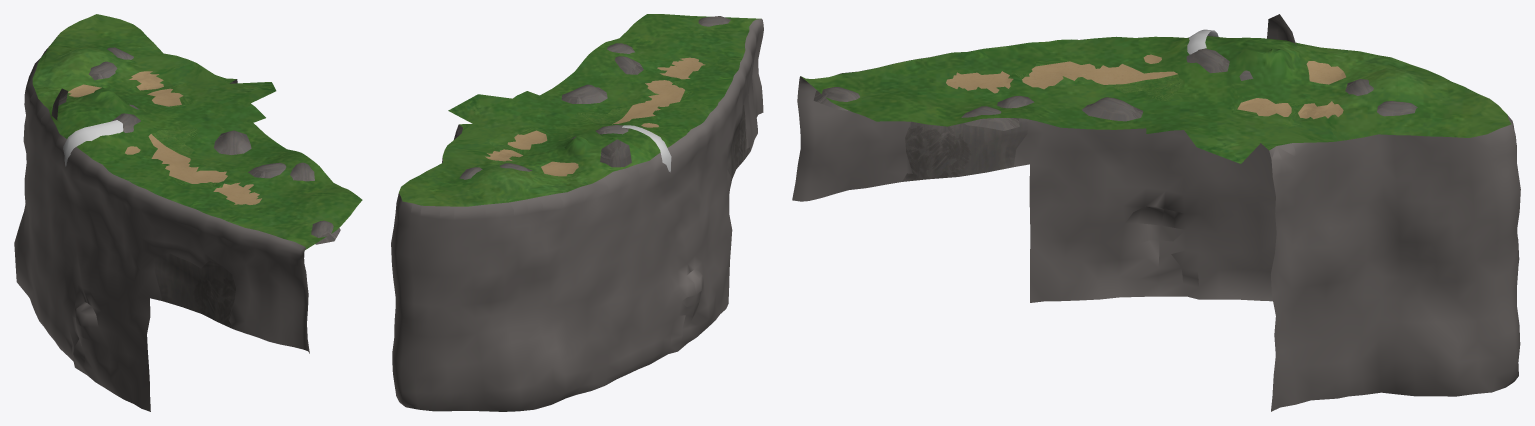
File: SM_ENV_KNFRST_Cliff_G_COL.FBX
3 renders of one model, left to right at view 1: azimuth 30°, elevation 25°; view 2: azimuth 150°, elevation 25°; view 3: azimuth 270°, elevation 25°, orthographic. The views are drawn at different scales.
Visible parts, largest first — view 1: SM_ENV_KNFRST_Cliff_G_COL; view 2: SM_ENV_KNFRST_Cliff_G_COL; view 3: SM_ENV_KNFRST_Cliff_G_COL.
Part boxes in pixels (left/top/right/bottom): SM_ENV_KNFRST_Cliff_G_COL: left=14, top=14, right=362, bottom=411; SM_ENV_KNFRST_Cliff_G_COL: left=391, top=14, right=763, bottom=411; SM_ENV_KNFRST_Cliff_G_COL: left=792, top=14, right=1520, bottom=411.
Bounding box in the file's own units: 4016 × 4140 × 9136.
